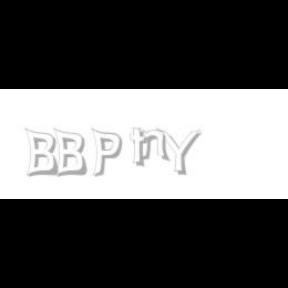B: (24, 128, 58, 178), (53, 128, 87, 178)
P: (90, 128, 122, 178)
Y: (155, 128, 201, 176)
n: (137, 128, 171, 162)
t: (130, 128, 152, 168)
